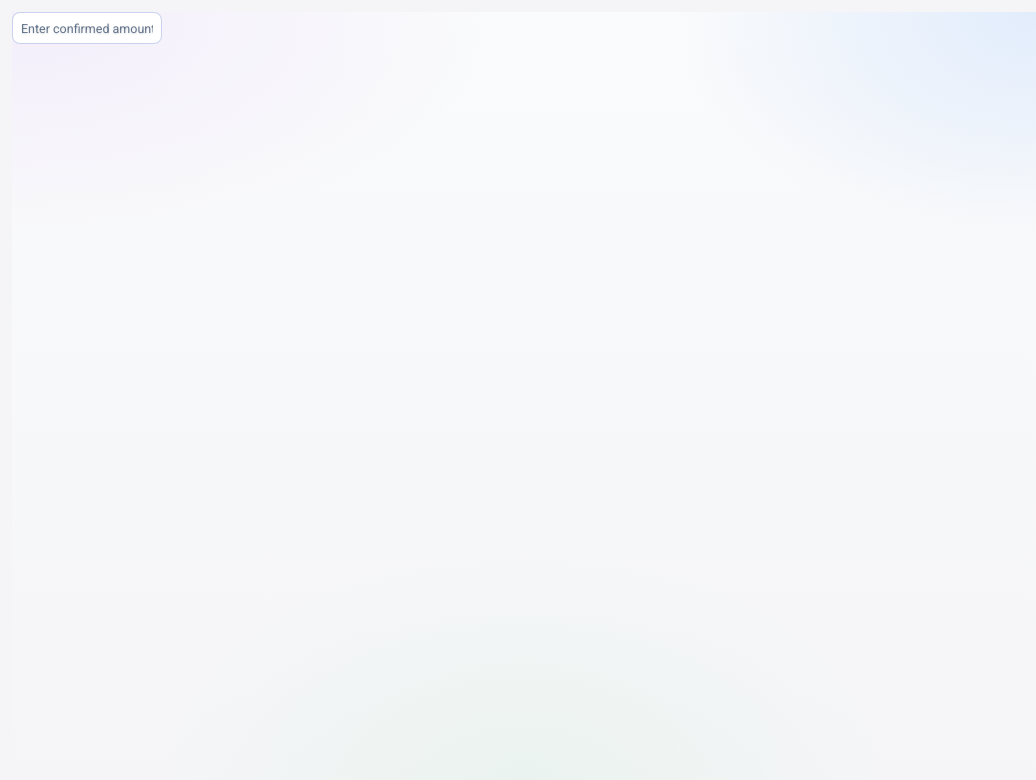
Test: the confirmed-amount field component (no longer in the Tracker row; kept, with its own rules) › a refusal from the server is shown and the field keeps what was typed
Type "500" into the field named "Collection Amount Confirmation for Alpha Traders" at {"x": 87, "y": 28}, box x1=12 y1=12 x2=162 y2=44
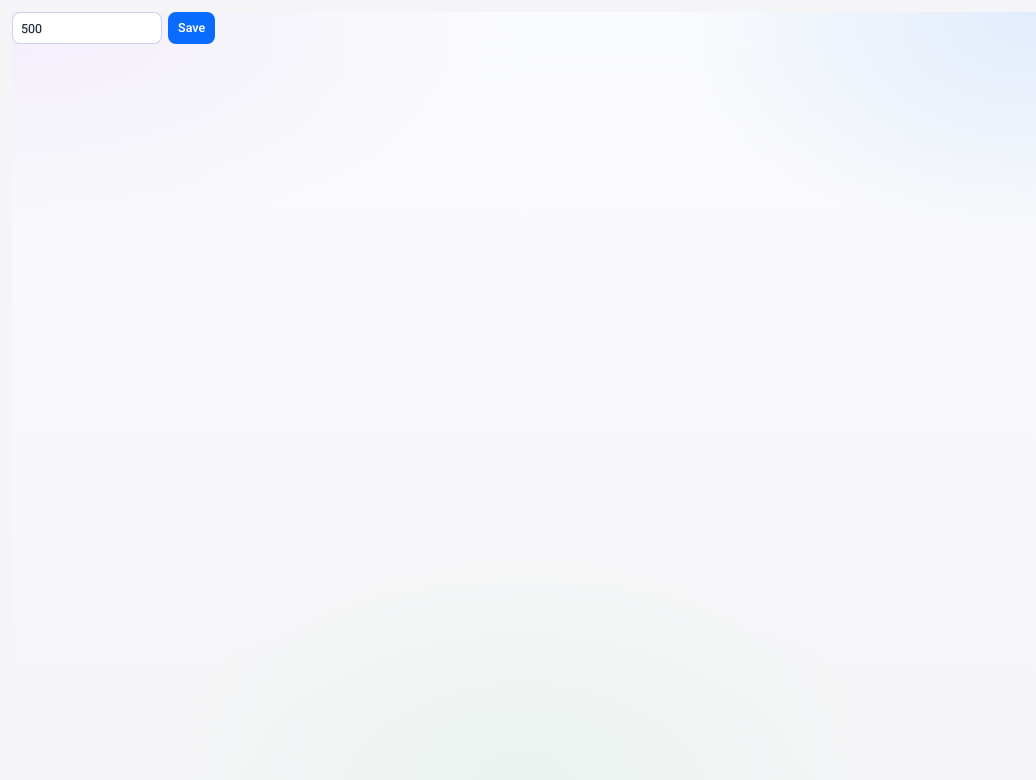
Click the button with aria-label "Save confirmed amount for Alpha Traders" at {"x": 192, "y": 28}, box x1=168 y1=12 x2=215 y2=44
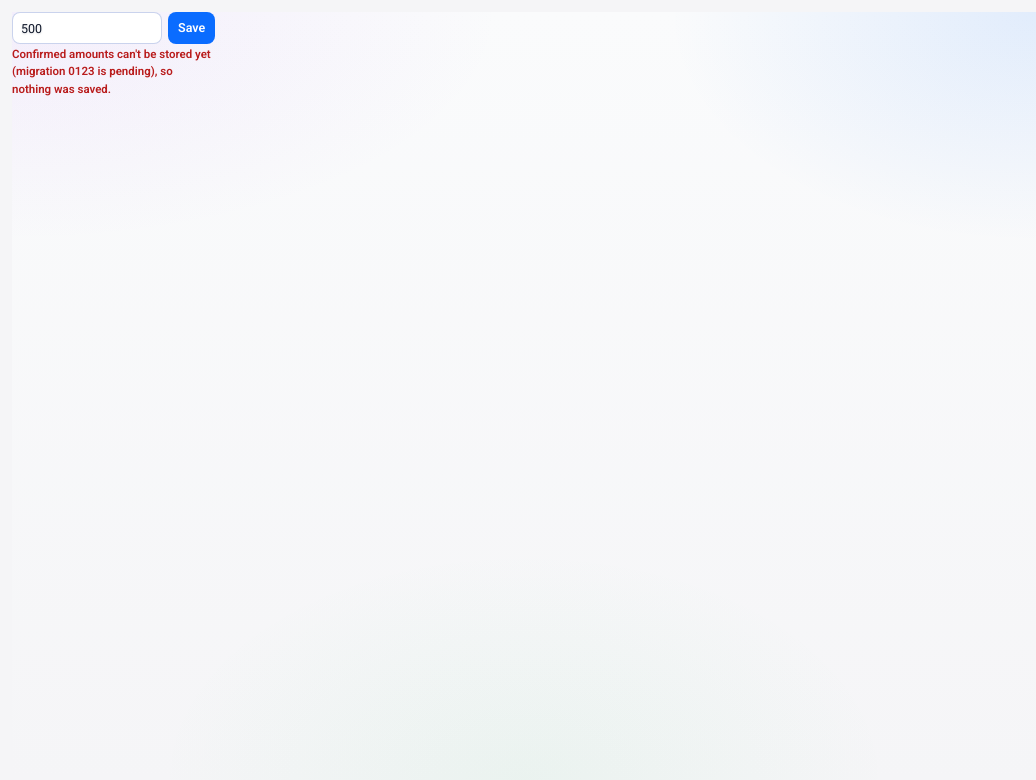
Expected: the message shows "migration 0123", x1=12 y1=47 x2=211 y2=96
